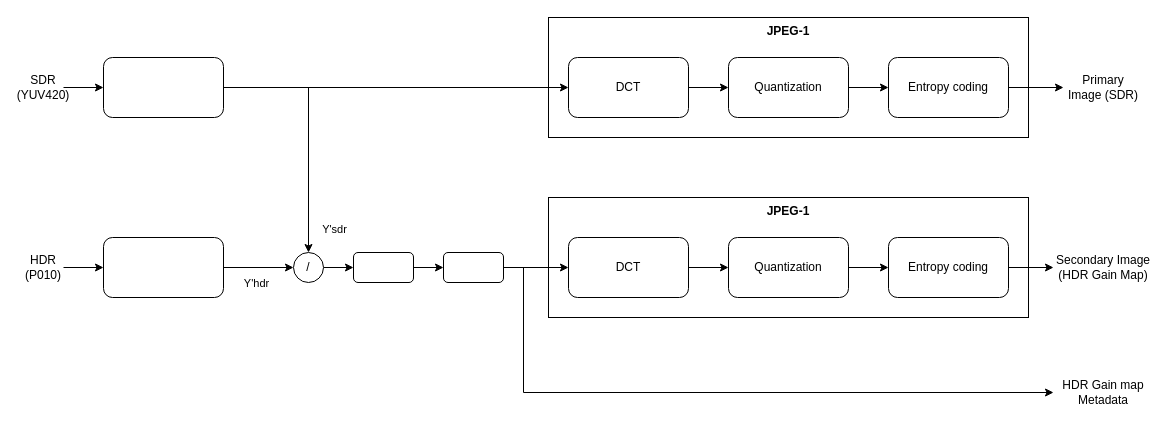
The diagram is 1171 pixels wide and 425 high, and some of its shapes have lost their labels. Here are the shapes that lost their labels. From the top down, the centre of each, then its label:
point (163, 87): Gamma correction
point (163, 267): PQ/HLG correction
point (383, 267): log2
point (473, 267): Map gamma
